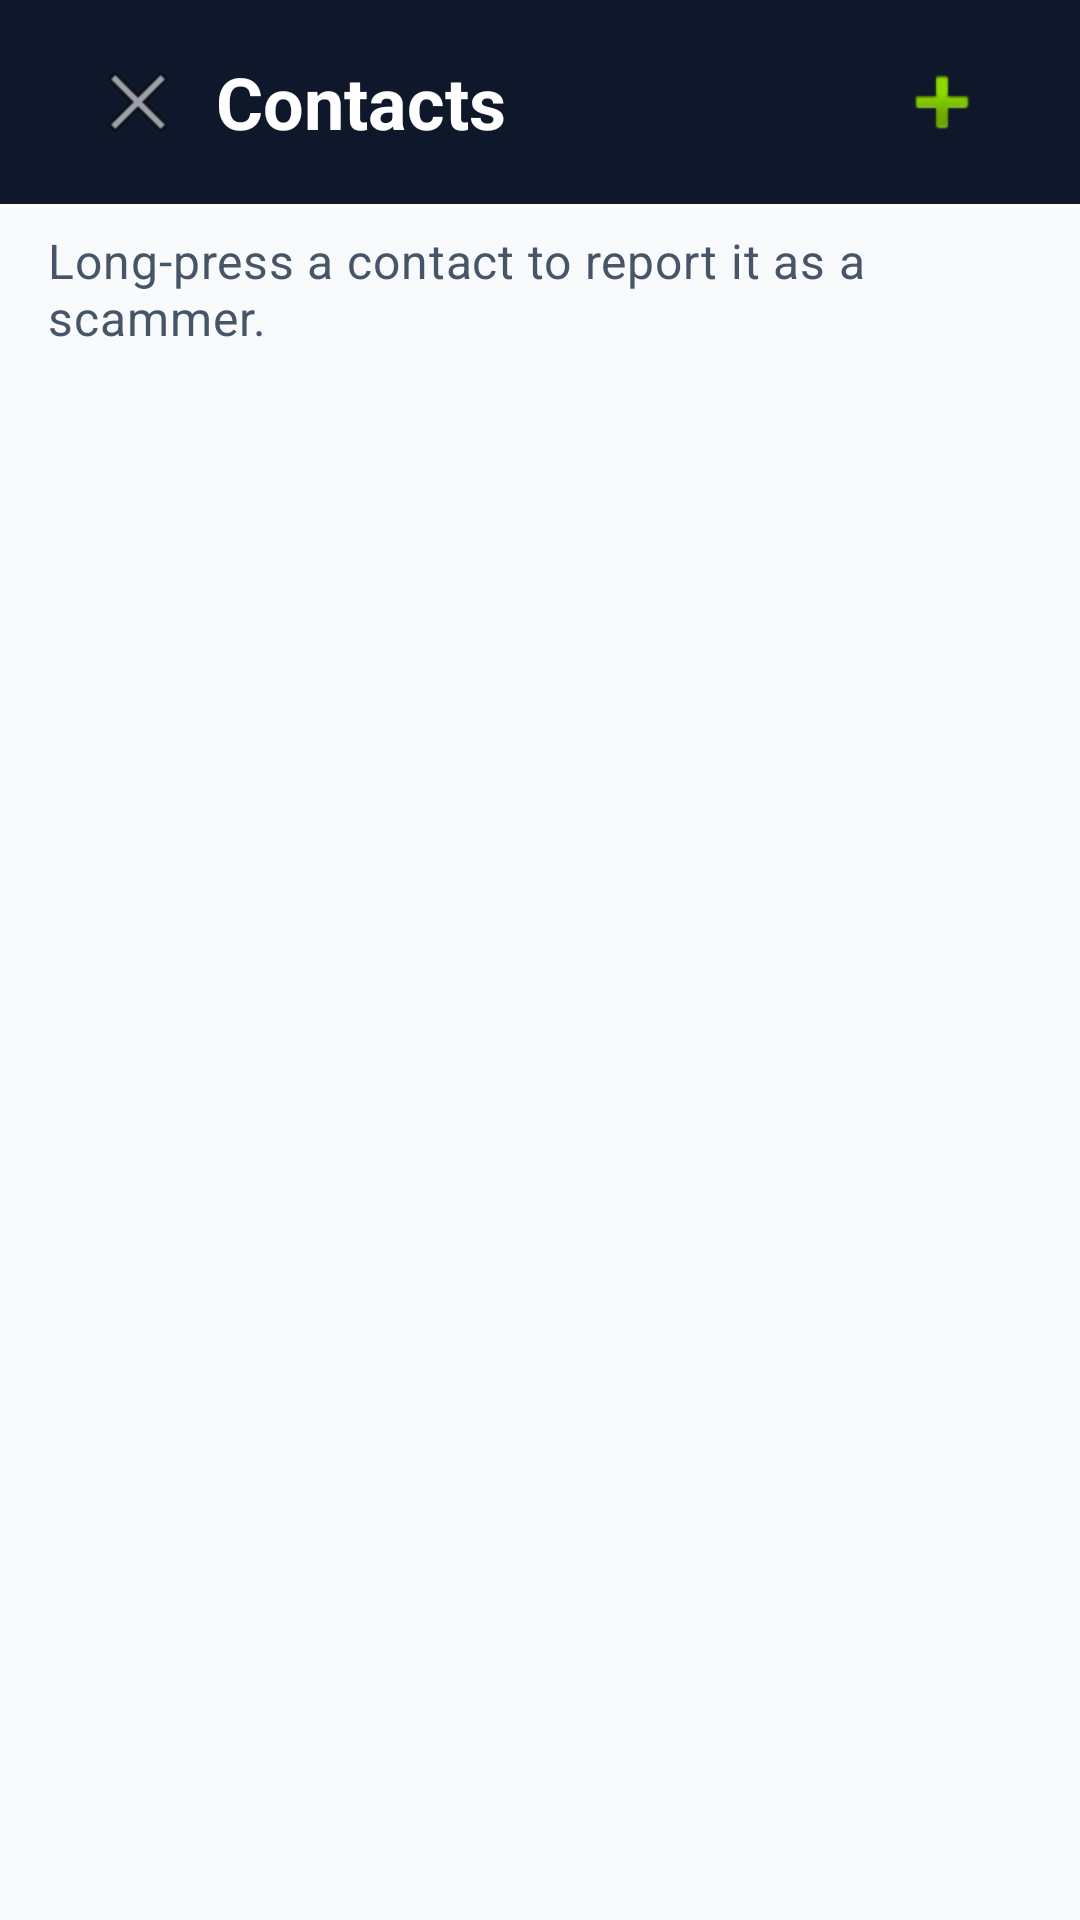

Where icons sit on this 1080px x 1920px app screen, as [x1, y1, x2, y2]:
Add a contact: [915, 75, 969, 129]
Back: [111, 75, 165, 129]
